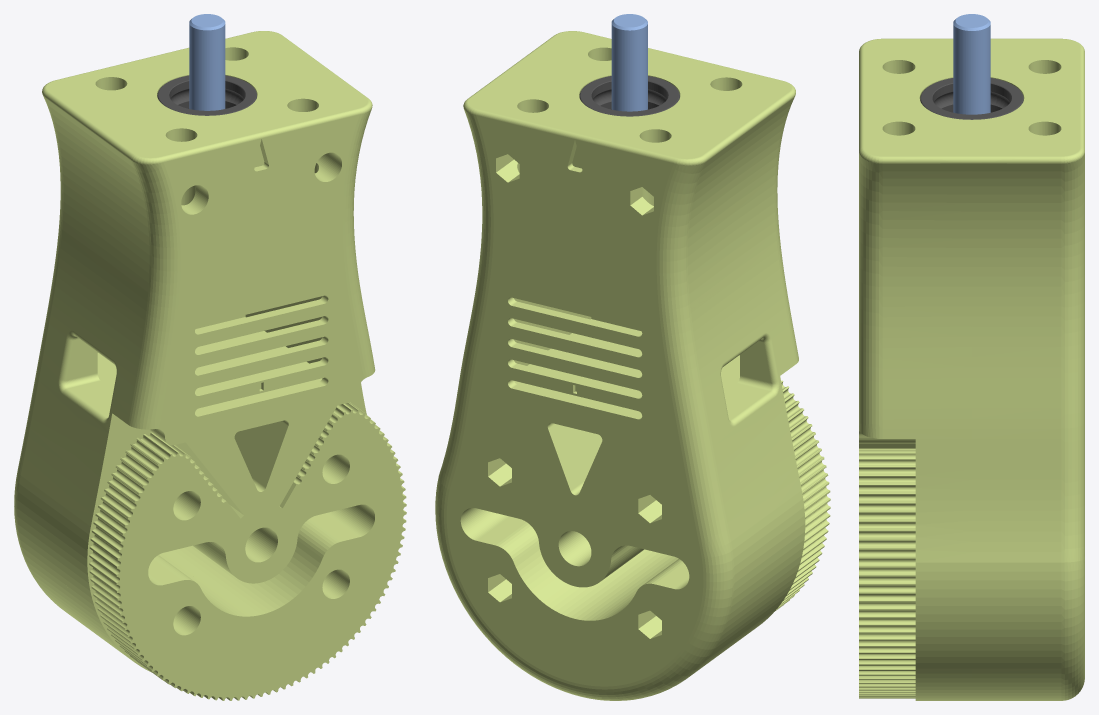
The model's file is arm_link3.dae.
3 renders of one model, left to right at view 1: azimuth 30°, elevation 25°; view 2: azimuth 150°, elevation 25°; view 3: azimuth 270°, elevation 25°, orthographic. The views are drawn at different scales.
Parts seen in each view (by area): view 1: Untitled_003, Untitled, Untitled_001, Untitled_002; view 2: Untitled, Untitled_003, Untitled_001, Untitled_002; view 3: Untitled_003, Untitled, Untitled_001, Untitled_002.
Boxes of the visible parts, box(x1,y1,x2,y2) form: Untitled_003: box(60, 66, 406, 700); Untitled: box(14, 31, 324, 638); Untitled_001: box(189, 14, 225, 110); Untitled_002: box(157, 75, 256, 115); Untitled: box(435, 66, 777, 700); Untitled_003: box(512, 31, 830, 642); Untitled_001: box(611, 14, 647, 111); Untitled_002: box(579, 76, 679, 116); Untitled_003: box(859, 38, 971, 700); Untitled: box(972, 38, 1084, 700); Untitled_001: box(953, 14, 990, 114); Untitled_002: box(920, 78, 1023, 119).
Size of the model in its own units: 0.075 by 0.048 by 0.1555.
